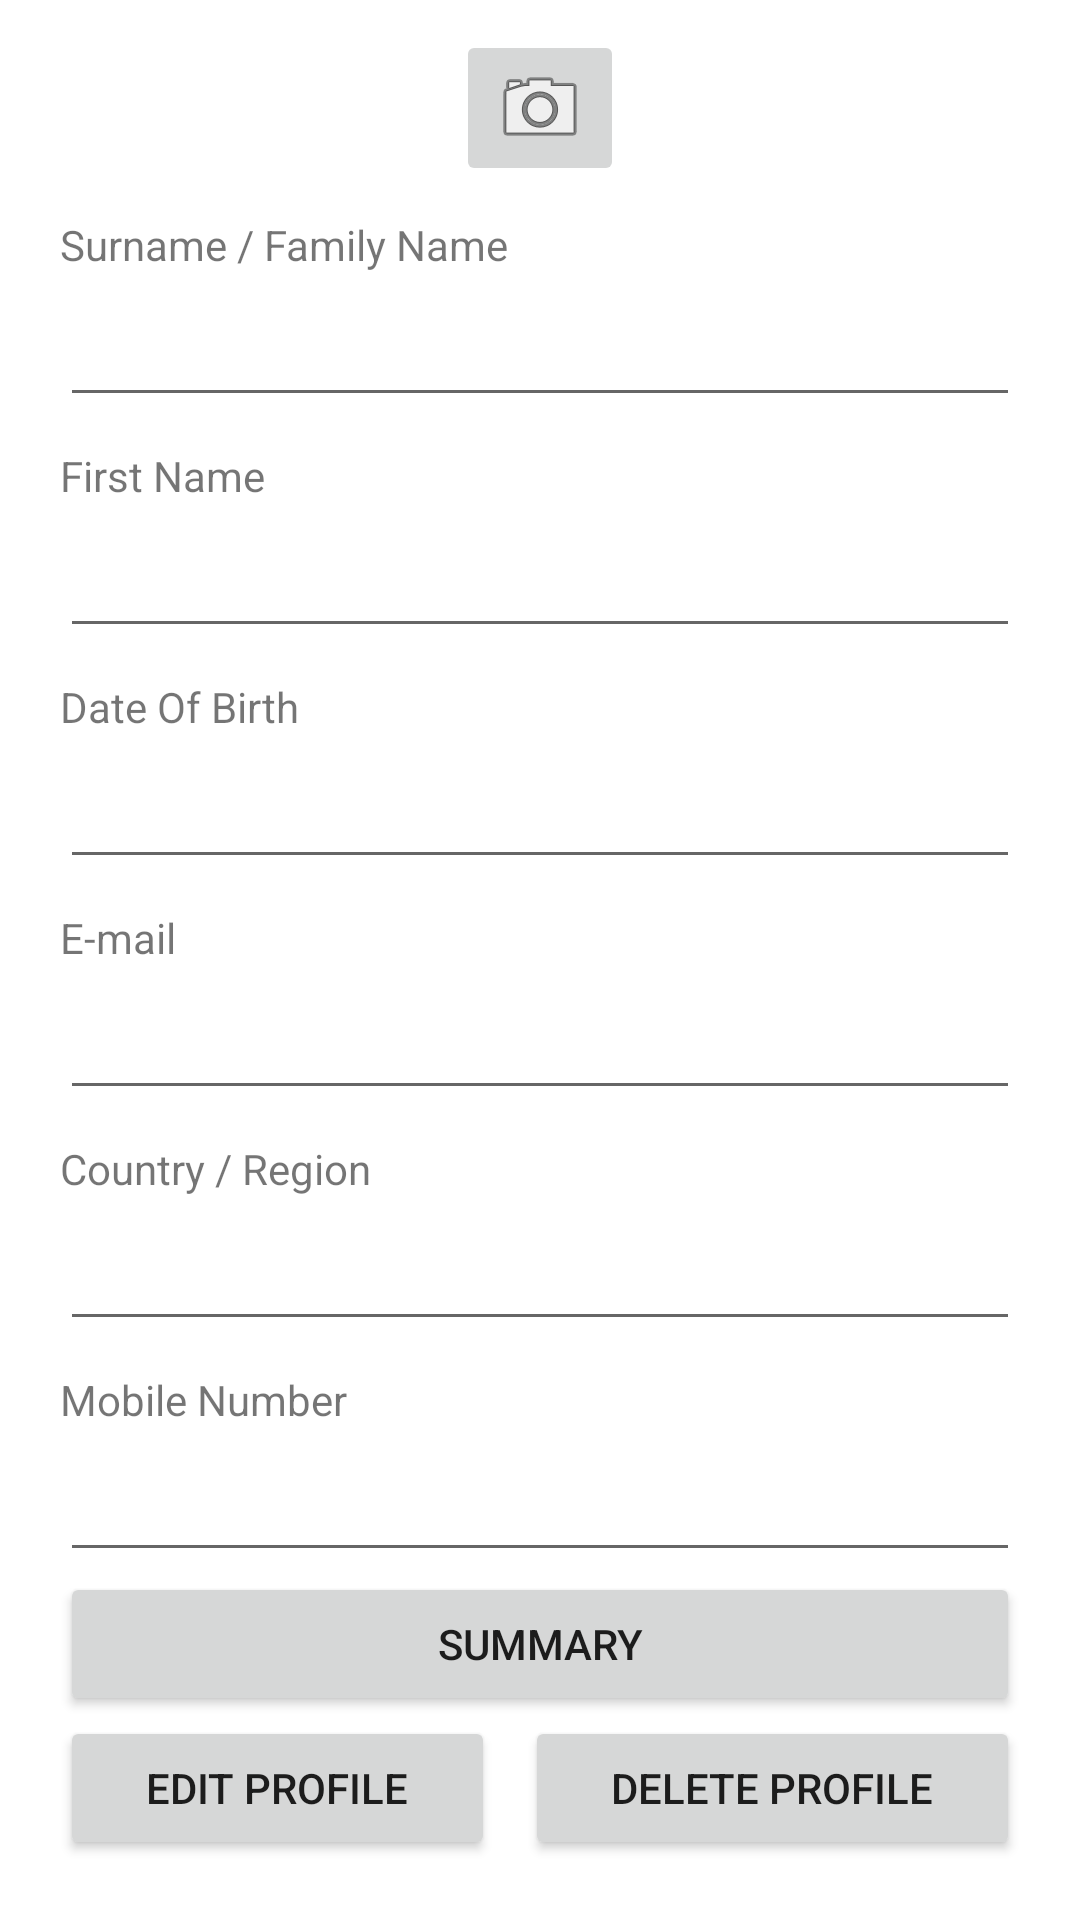

Named icons in this screenshot (1080×1920) and their centers, (x=x, y=y):
camera: (x=540, y=108)
